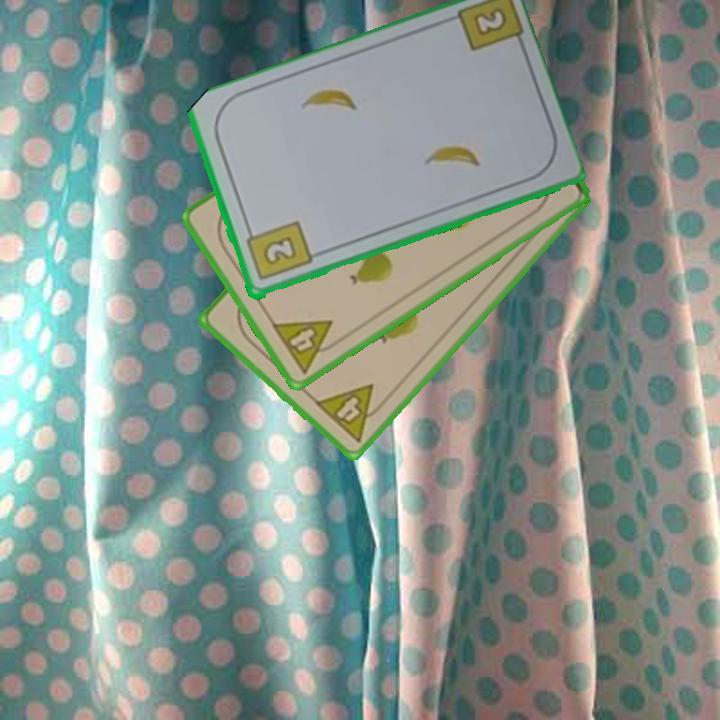2b: (242, 218, 315, 284), (473, 7, 506, 36)
4p: (311, 380, 392, 445), (268, 316, 347, 377)
